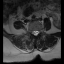CCS_normal: (34, 29, 36, 37)
LFS_normal: (38, 28, 40, 35)
LLS_normal: (36, 29, 38, 36)
RFS_normal: (30, 28, 32, 36)
RLS_normal: (32, 29, 34, 36)
